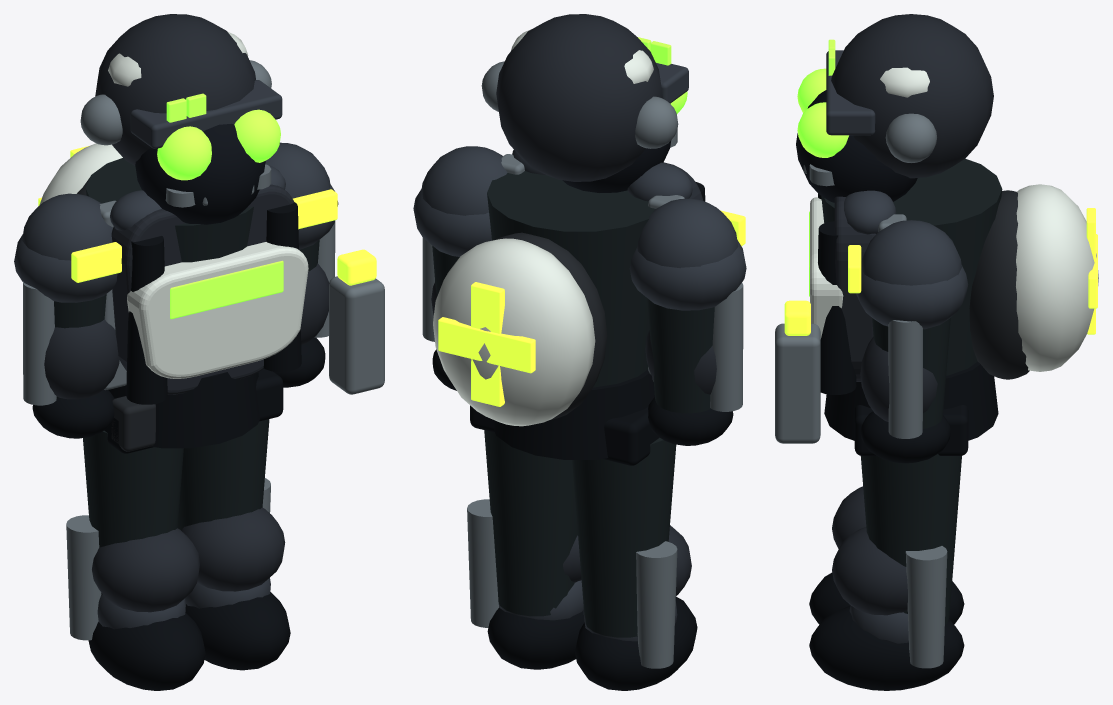
File: medic_l02.glb
3 renders of one model, left to right at view 1: azimuth 30°, elevation 25°; view 2: azimuth 150°, elevation 25°; view 3: azimuth 270°, elevation 25°, orthographic. The views are drawn at different scales.
Parts seen in each view (by area): view 1: trouser (×2), reinforced_vest, shaped_knee_guard (×2), rounded_boot (×2), rounded_helmet, enclosed_mask, shoulder_joint (×2), curved_forearm_guard (×2), waist_flex, aid_injector, contoured_vest, vest_tether (×2) (+20 smaller); view 2: trouser (×2), rounded_helmet, medical_pack, body, shoulder_joint (×2), rounded_boot (×2), shin_frame (×2), shoulder_plate (×2), sleeve (×2), waist_flex, forearm_seam (×2), aid_cross_horizontal (+12 smaller); view 3: rounded_helmet, medical_pack, trouser, body, rounded_boot (×2), shaped_field_pack, shaped_knee_guard (×2), aid_injector, shoulder_joint, shin_frame, shoulder_plate, waist_flex (+19 smaller).
Boxes of the visible parts, box(x1,y1,x2,y2) form: trouser (×2): box(83, 419, 269, 594); reinforced_vest: box(127, 242, 308, 378); shaped_knee_guard (×2): box(92, 507, 285, 612); rounded_boot (×2): box(88, 592, 290, 690); rounded_helmet: box(95, 14, 255, 165); enclosed_mask: box(135, 123, 265, 224); shoulder_joint (×2): box(22, 142, 330, 260); curved_forearm_guard (×2): box(44, 263, 329, 399); waist_flex: box(108, 372, 259, 448); aid_injector: box(329, 276, 384, 394); contoured_vest: box(111, 184, 293, 394); vest_tether (×2): box(126, 202, 301, 404); trouser (×2): box(484, 430, 676, 637); rounded_helmet: box(496, 14, 662, 181); medical_pack: box(433, 238, 595, 426); body: box(487, 171, 655, 387); shoulder_joint (×2): box(421, 146, 738, 268); rounded_boot (×2): box(487, 596, 697, 690); shin_frame (×2): box(467, 499, 677, 668); shoulder_plate (×2): box(413, 189, 746, 310); sleeve (×2): box(432, 246, 714, 413); waist_flex: box(494, 369, 654, 459); forearm_seam (×2): box(422, 238, 743, 411); aid_cross_horizontal: box(438, 317, 535, 373); rounded_helmet: box(831, 14, 993, 178); medical_pack: box(1016, 184, 1098, 371); trouser: box(860, 454, 961, 624); body: box(821, 158, 1002, 375); rounded_boot (×2): box(809, 572, 964, 690); shaped_field_pack: box(969, 190, 1029, 379); shaped_knee_guard (×2): box(832, 486, 907, 615); aid_injector: box(775, 323, 820, 443); shoulder_joint: box(861, 220, 961, 285); shin_frame: box(905, 546, 947, 668); shoulder_plate: box(856, 265, 968, 329); waist_flex: box(824, 361, 998, 440).
Size of the model in its own units: 0.95 by 1.87 by 0.855.
